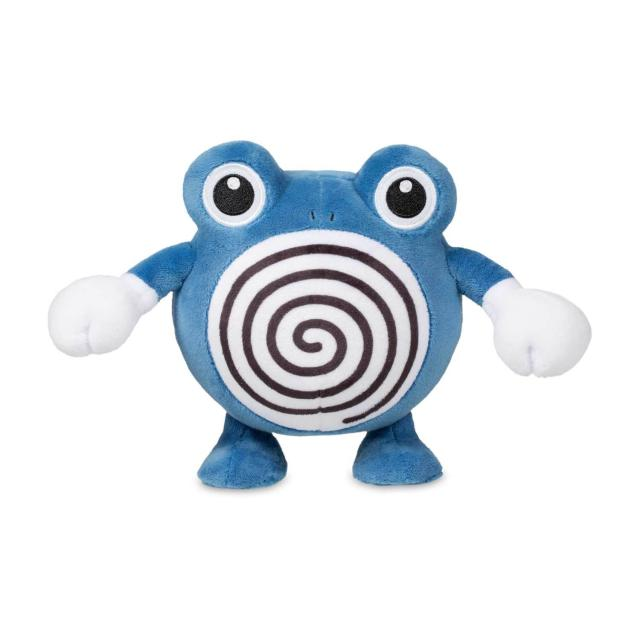Poliwhirl: (169, 130, 466, 428)
